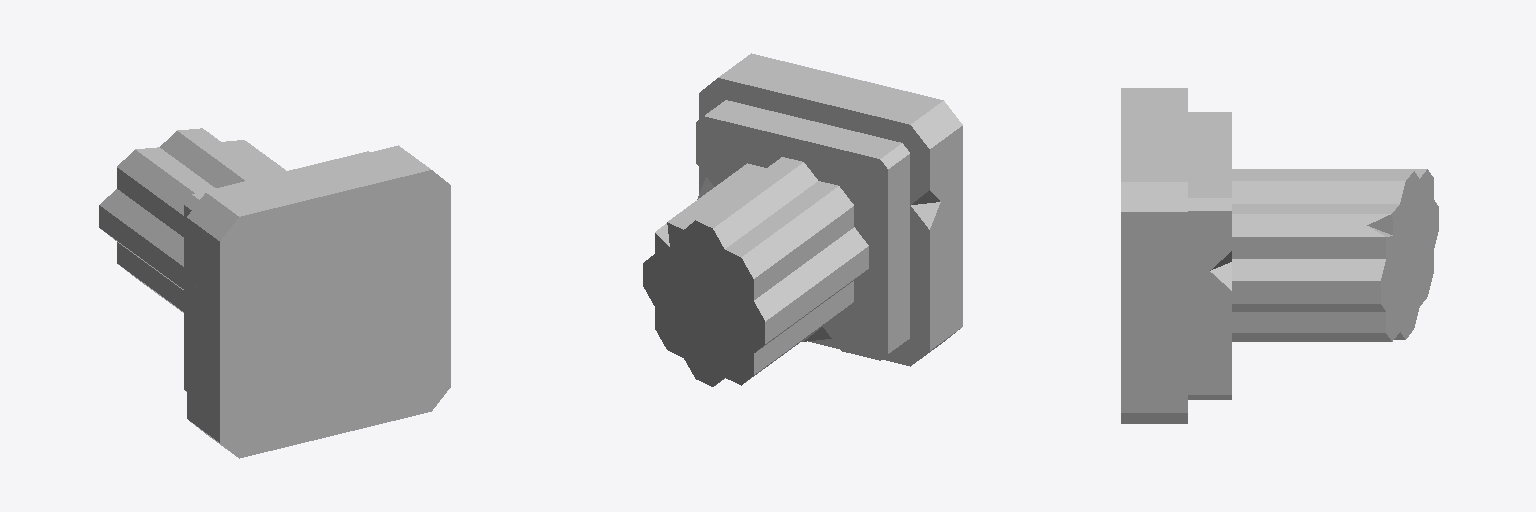
The model's file is column-damaged.obj.
3 views of the same model, side by side, from view 1: azimuth 30°, elevation 25°; view 2: azimuth 150°, elevation 25°; view 3: azimuth 270°, elevation 25° (orthographic).
Parts seen in each view (by area): view 1: column-damaged; view 2: column-damaged; view 3: column-damaged.
Boxes of the visible parts, x1=… form: column-damaged: x1=99, y1=128, x2=450, y2=458; column-damaged: x1=643, y1=53, x2=962, y2=386; column-damaged: x1=1121, y1=88, x2=1438, y2=423.
Size of the model in its own units: 0.6 by 0.6 by 0.7157.